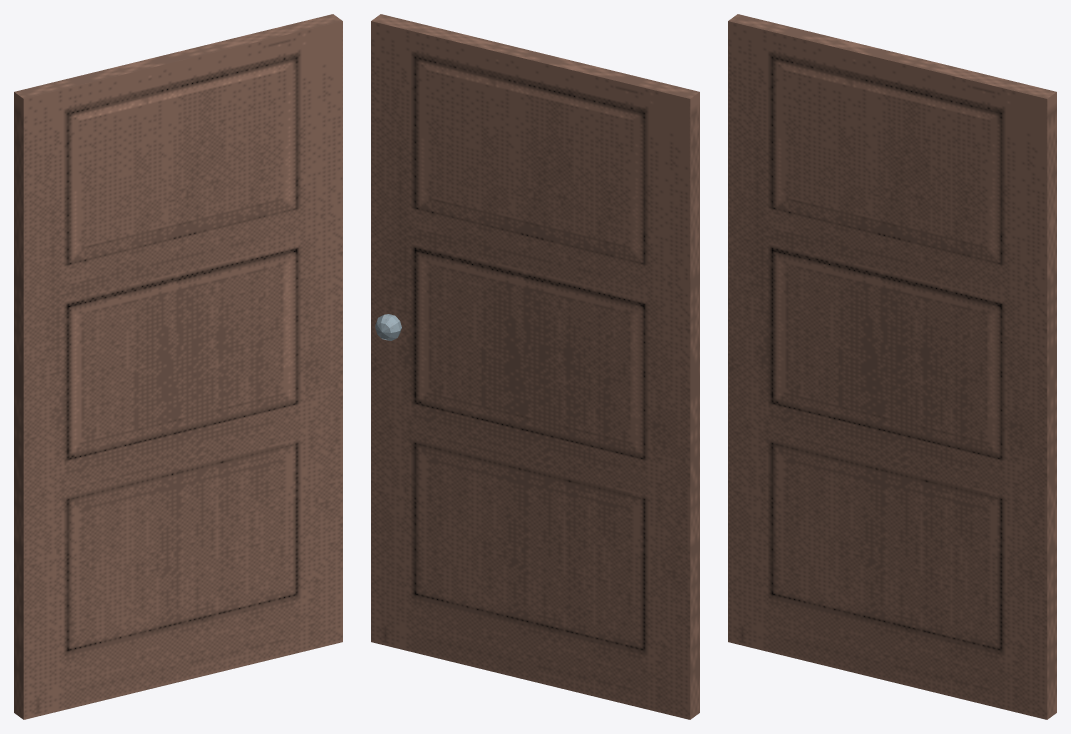
File: door_12.glb
3 renders of one model, left to right at view 1: azimuth 30°, elevation 25°; view 2: azimuth 150°, elevation 25°; view 3: azimuth 330°, elevation 25°, orthographic.
Parts seen in each view (by area): view 1: polySurface42.001; view 2: polySurface42.001; view 3: polySurface42.001.
Part boxes in pixels (left/top/right/bottom): polySurface42.001: left=14, top=14, right=342, bottom=719; polySurface42.001: left=371, top=14, right=699, bottom=719; polySurface42.001: left=728, top=14, right=1056, bottom=719.
Size of the model in its own units: 1.13 by 2.1 by 0.1274.
2 materials, 2 textured.
